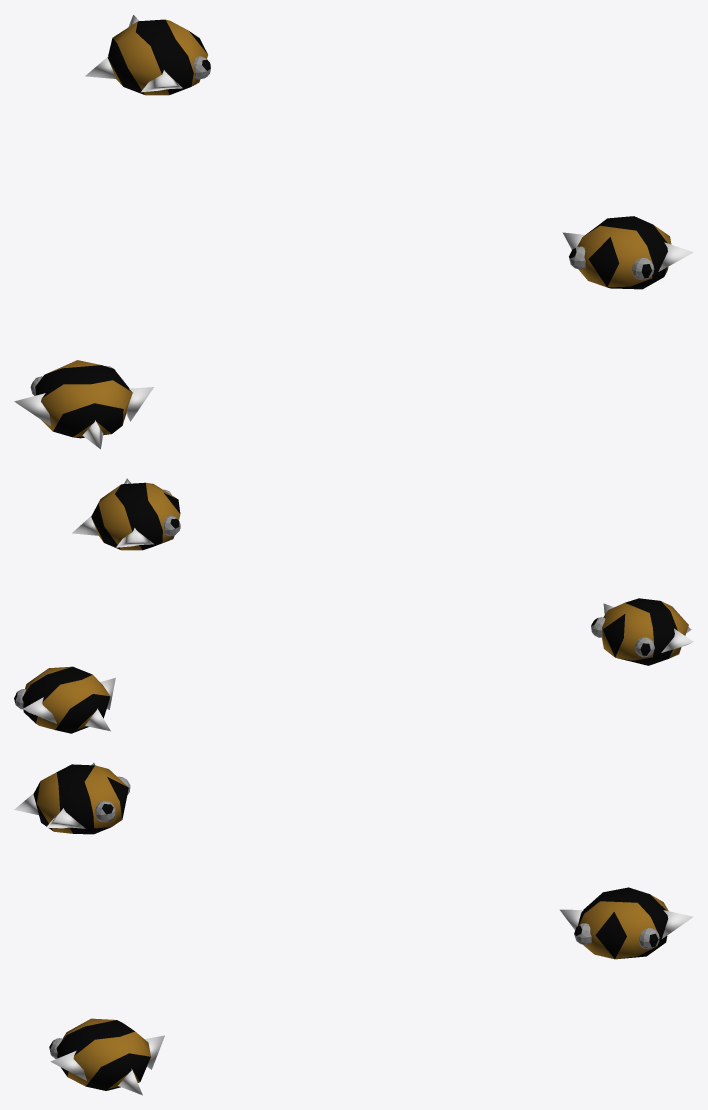
File: Green_planet_beeflying_002.FBX
3 views of the same model, one above another, from view 1: azimuth 30°, elevation 25°; view 2: azimuth 150°, elevation 25°; view 3: azimuth 270°, elevation 25° (orthographic). The views are drawn at different scales.
Visible parts, largest first — view 1: 005_GREEN PLANET_BEE_FLYING_002; view 2: 005_GREEN PLANET_BEE_FLYING_002; view 3: 005_GREEN PLANET_BEE_FLYING_002.
Part boxes in pixels (left/top/right/bottom): 005_GREEN PLANET_BEE_FLYING_002: left=14, top=15, right=693, bottom=449; 005_GREEN PLANET_BEE_FLYING_002: left=14, top=478, right=693, bottom=733; 005_GREEN PLANET_BEE_FLYING_002: left=14, top=763, right=693, bottom=1095.
Size of the model in its own units: 14.09 by 2.19 by 13.03.
